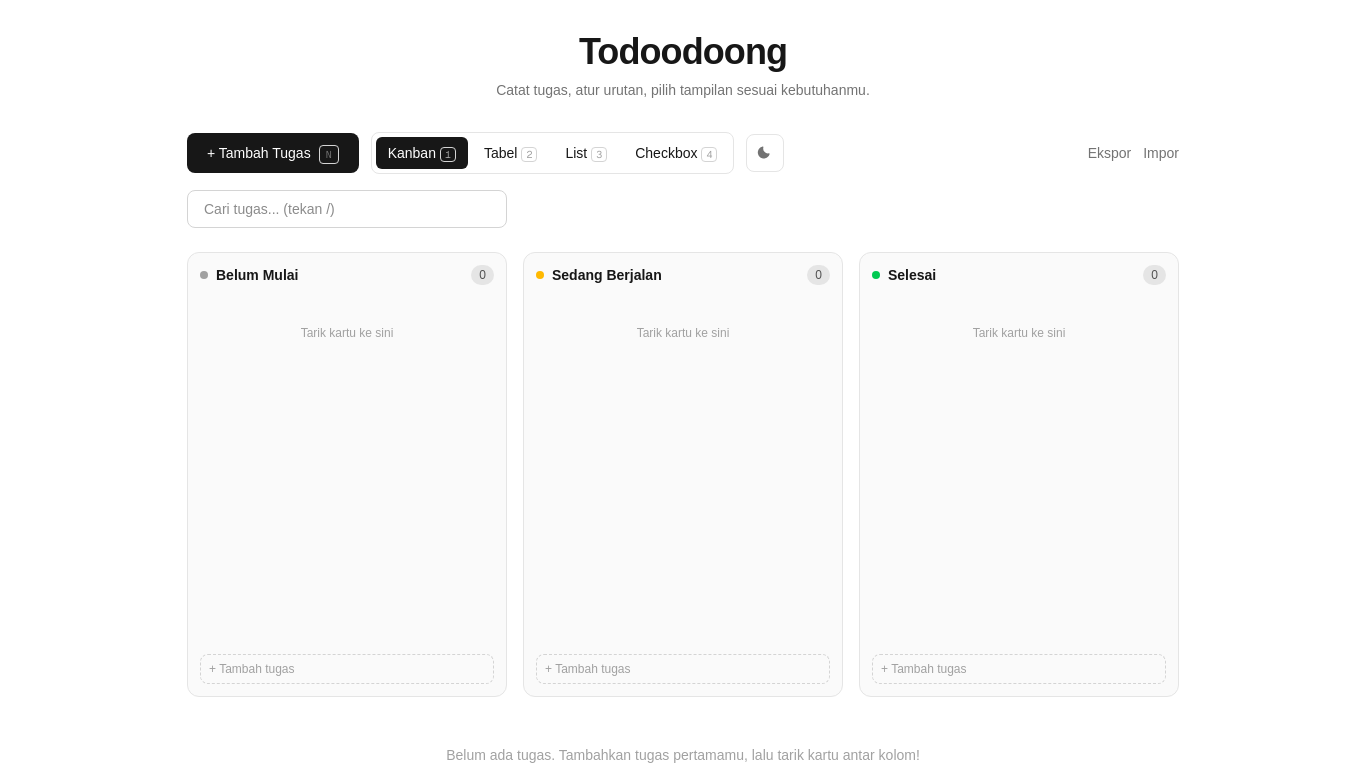
Tambah cepat di kolom kanban › menambah tugas langsung ke kolom yang dituju
Type "Kirim proposal" into the 2nd field with placeholder "+ Tambah tugas".
click(683, 669); type("Kirim proposal")  # box [536,654,830,684]
Then press Enter
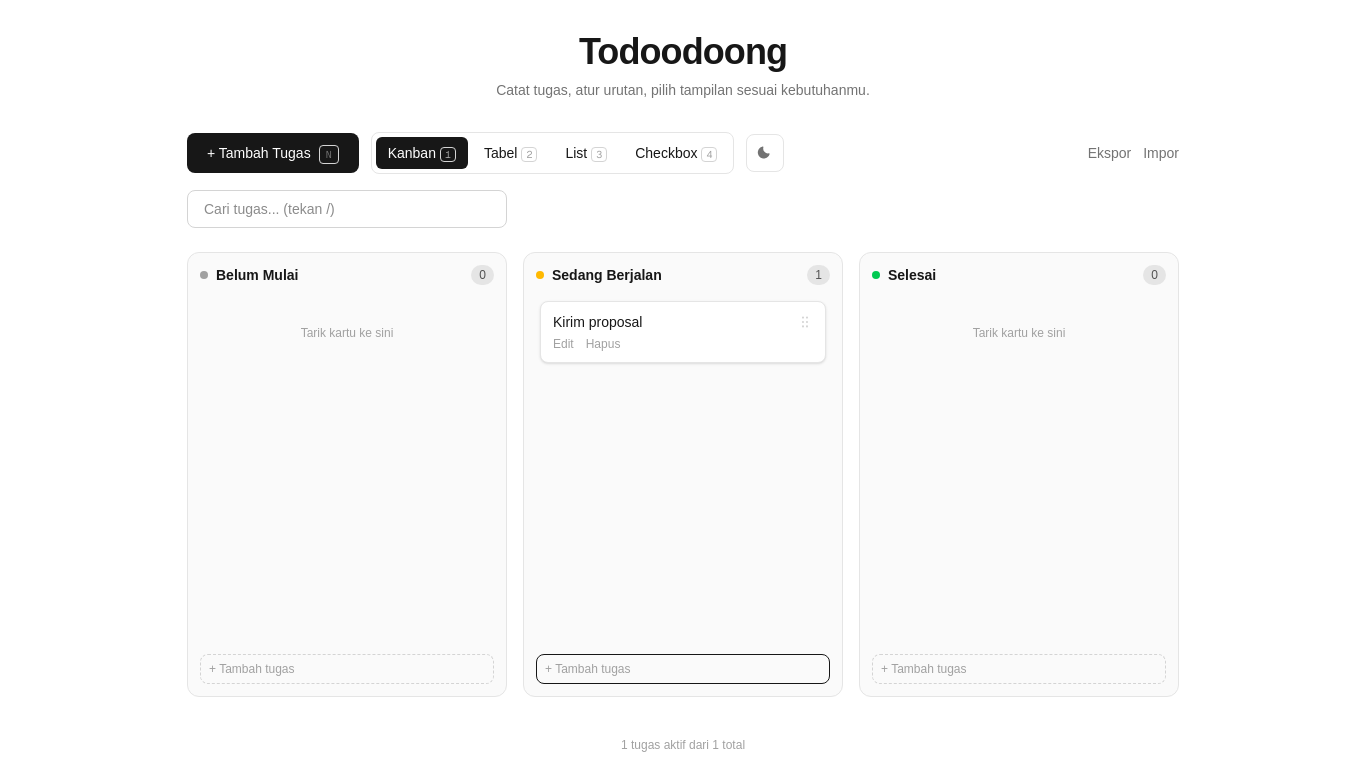
Result: the text "Kirim proposal" is shown at [553,314,642,330]
